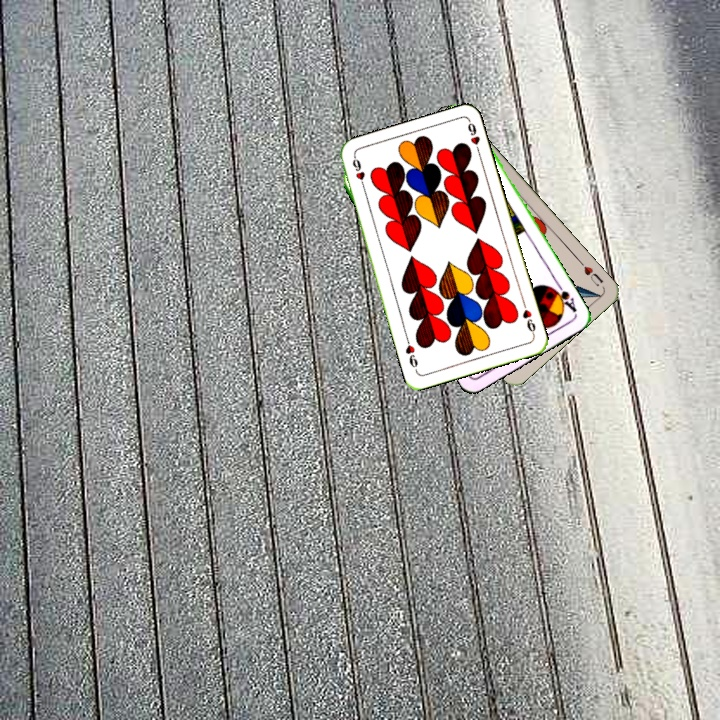H9: (348, 153, 368, 193), (518, 299, 538, 338)
HU: (575, 257, 606, 289)
SA: (547, 279, 579, 315)
